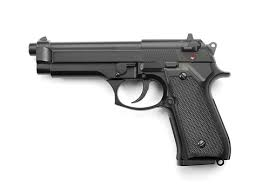gun: (28, 32, 233, 168)
